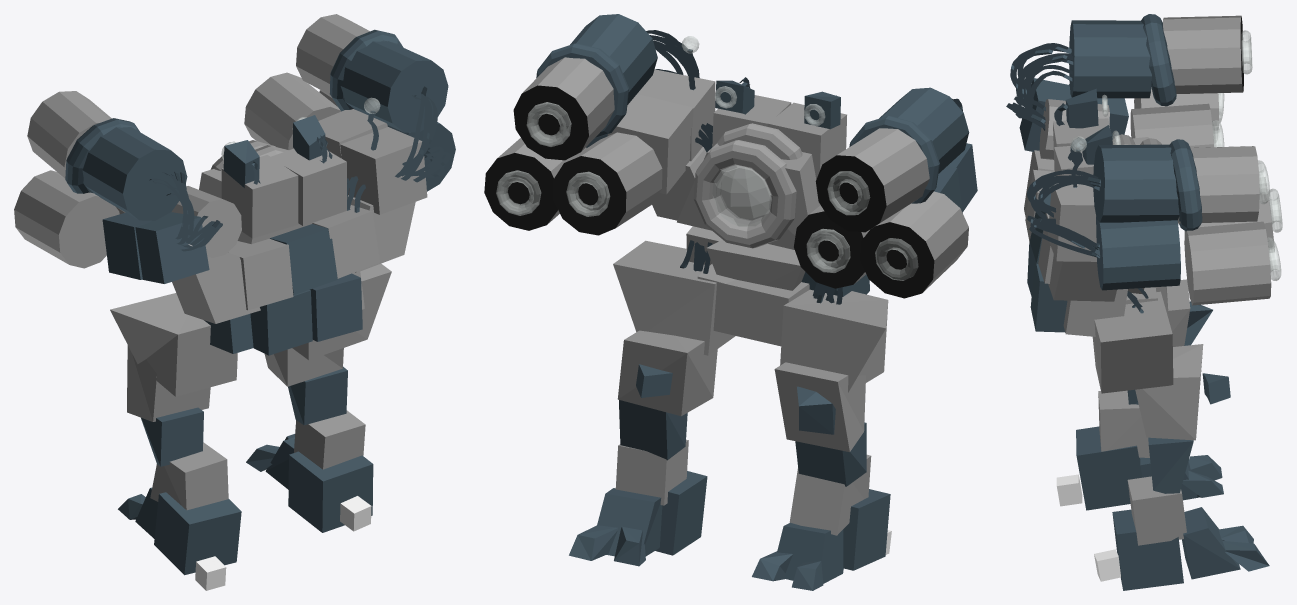
The model's file is scene_myqFz39uZJ.glb.
The picture shows the model from 3 angles, left to right: view 1: azimuth 30°, elevation 25°; view 2: azimuth 150°, elevation 25°; view 3: azimuth 270°, elevation 25°; orthographic projection. The views are drawn at different scales.
Visible parts, largest first — view 1: Node; view 2: Node; view 3: Node.
Part boxes in pixels (box(x1,y1,x2,y2)): Node: box(14, 14, 455, 590); Node: box(484, 14, 977, 590); Node: box(1006, 14, 1282, 590).
Bounding box in the file's own units: 0.8275 × 0.9192 × 0.4961.
